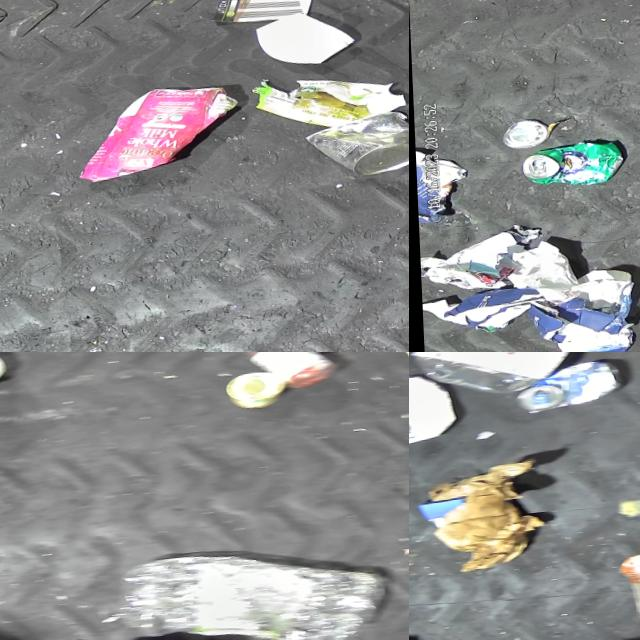can: (300, 117, 409, 189), (505, 360, 625, 422), (516, 143, 620, 194), (498, 121, 545, 152)
plastic_bottle: (409, 352, 605, 408), (224, 352, 335, 402)
